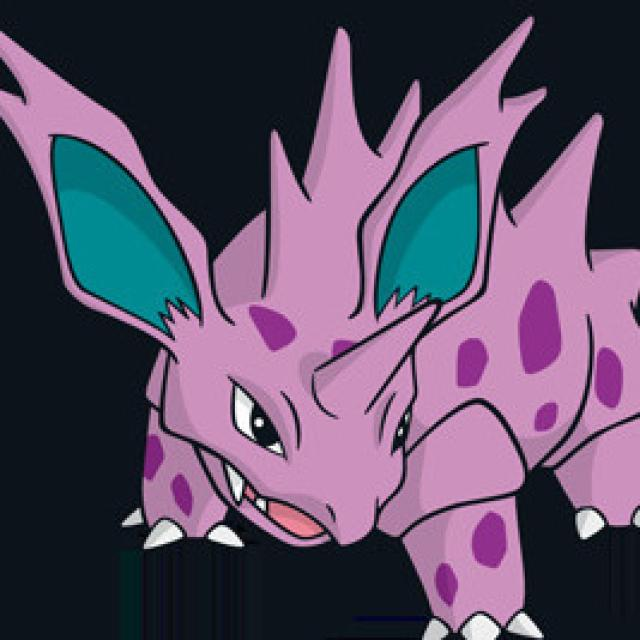Nidorino: (31, 41, 606, 558)
